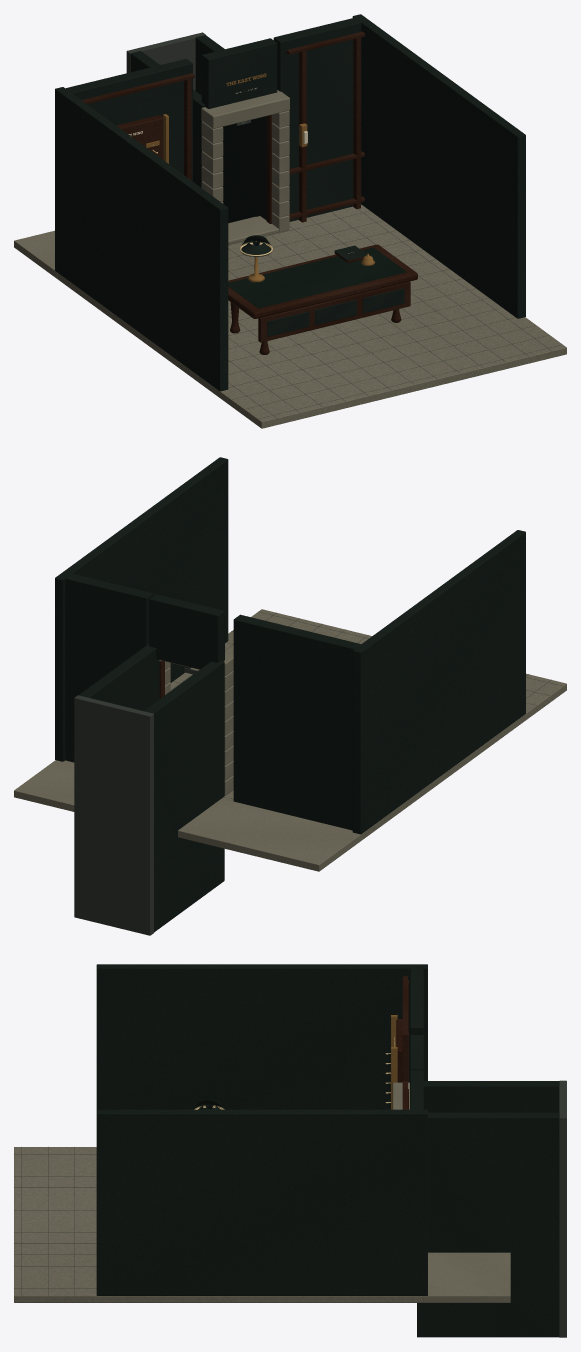
Rendered from porter-station.glb.
The picture shows the model from 3 angles, top to bottom: view 1: azimuth 30°, elevation 25°; view 2: azimuth 150°, elevation 25°; view 3: azimuth 270°, elevation 25°; orthographic projection.
Parts seen in each view (by area): view 1: Key_Porter_Station / Museum green, Key_Porter_Station / Warm limestone, Key_Porter_Station / Walnut, Key_Porter_Station / Engraved charcoal, Porter writing pad, Key_Porter_Station / Aged brass; view 2: Key_Porter_Station / Museum green, Key_Porter_Station / Engraved charcoal, Key_Porter_Station / Warm limestone; view 3: Key_Porter_Station / Museum green, Key_Porter_Station / Warm limestone, Key_Porter_Station / Engraved charcoal, Key_Porter_Station / Walnut, Key_Porter_Station / Aged brass.
Boxes of the visible parts, x1,y1,x2,y2 form: Key_Porter_Station / Museum green: (55, 14, 525, 391); Key_Porter_Station / Warm limestone: (14, 90, 566, 428); Key_Porter_Station / Walnut: (81, 31, 417, 354); Key_Porter_Station / Engraved charcoal: (126, 32, 562, 418); Porter writing pad: (228, 247, 406, 308); Key_Porter_Station / Aged brass: (146, 73, 375, 282); Key_Porter_Station / Museum green: (55, 457, 525, 932); Key_Porter_Station / Engraved charcoal: (74, 611, 561, 935); Key_Porter_Station / Warm limestone: (14, 609, 566, 871); Key_Porter_Station / Museum green: (96, 964, 559, 1337); Key_Porter_Station / Warm limestone: (14, 1082, 510, 1302); Key_Porter_Station / Engraved charcoal: (14, 1080, 566, 1337); Key_Porter_Station / Walnut: (396, 976, 408, 1109); Key_Porter_Station / Aged brass: (391, 1015, 397, 1109).
Bounding box in the file's own units: 6.42 × 5.35 × 10.02.
Materials: 8 (6 with a texture image).
